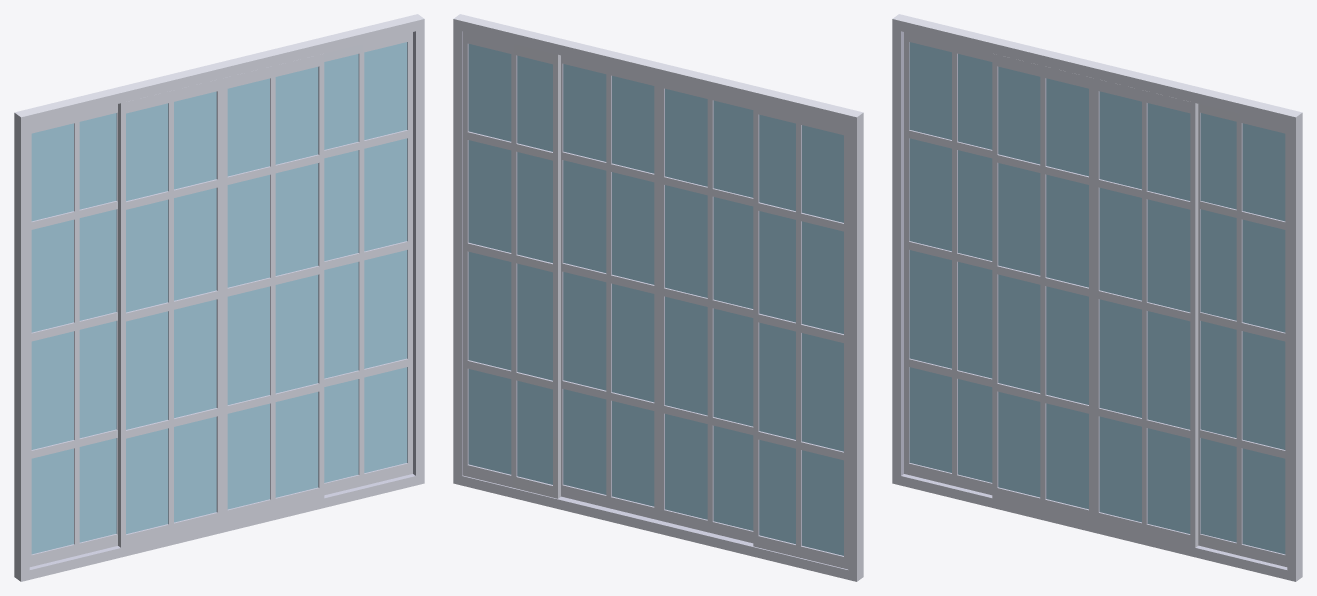
File: SM_Window_200_220.fbx
3 renders of one model, left to right at view 1: azimuth 30°, elevation 25°; view 2: azimuth 150°, elevation 25°; view 3: azimuth 330°, elevation 25°, orthographic.
Visible parts, largest first — view 1: Glass2, Glass3, Glass, Glass1, polySurface9, polySurface13, polySurface11, polySurface12, polySurface8; view 2: Glass2, Glass3, Glass1, Glass, polySurface9, polySurface12, polySurface8, polySurface11, polySurface13; view 3: Glass2, Glass3, Glass1, Glass, polySurface9, polySurface11, polySurface13, polySurface12, polySurface8.
Boxes of the visible parts, x1,y1,x2,y2 form: Glass2: (227, 67, 318, 509); Glass3: (126, 91, 216, 534); Glass: (31, 113, 116, 554); Glass1: (324, 42, 407, 482); polySurface9: (14, 14, 424, 581); polySurface13: (118, 78, 222, 547); polySurface11: (222, 53, 324, 522); polySurface12: (324, 32, 412, 495); polySurface8: (29, 104, 117, 566); Glass2: (563, 64, 654, 506); Glass3: (665, 88, 753, 530); Glass1: (468, 44, 552, 484); Glass: (759, 114, 843, 555); polySurface9: (453, 14, 863, 581); polySurface12: (462, 31, 560, 498); polySurface8: (753, 102, 848, 569); polySurface11: (561, 55, 658, 520); polySurface13: (659, 79, 753, 543); Glass2: (1099, 91, 1190, 533); Glass3: (998, 66, 1088, 509); Glass1: (1200, 113, 1285, 554); Glass: (909, 42, 992, 482); polySurface9: (892, 14, 1302, 581); polySurface11: (1094, 78, 1198, 547); polySurface13: (992, 53, 1093, 522); polySurface12: (1198, 104, 1287, 566); polySurface8: (904, 32, 992, 495).
Bounding box in the file's own units: 2 × 2.2 × 0.0584.
